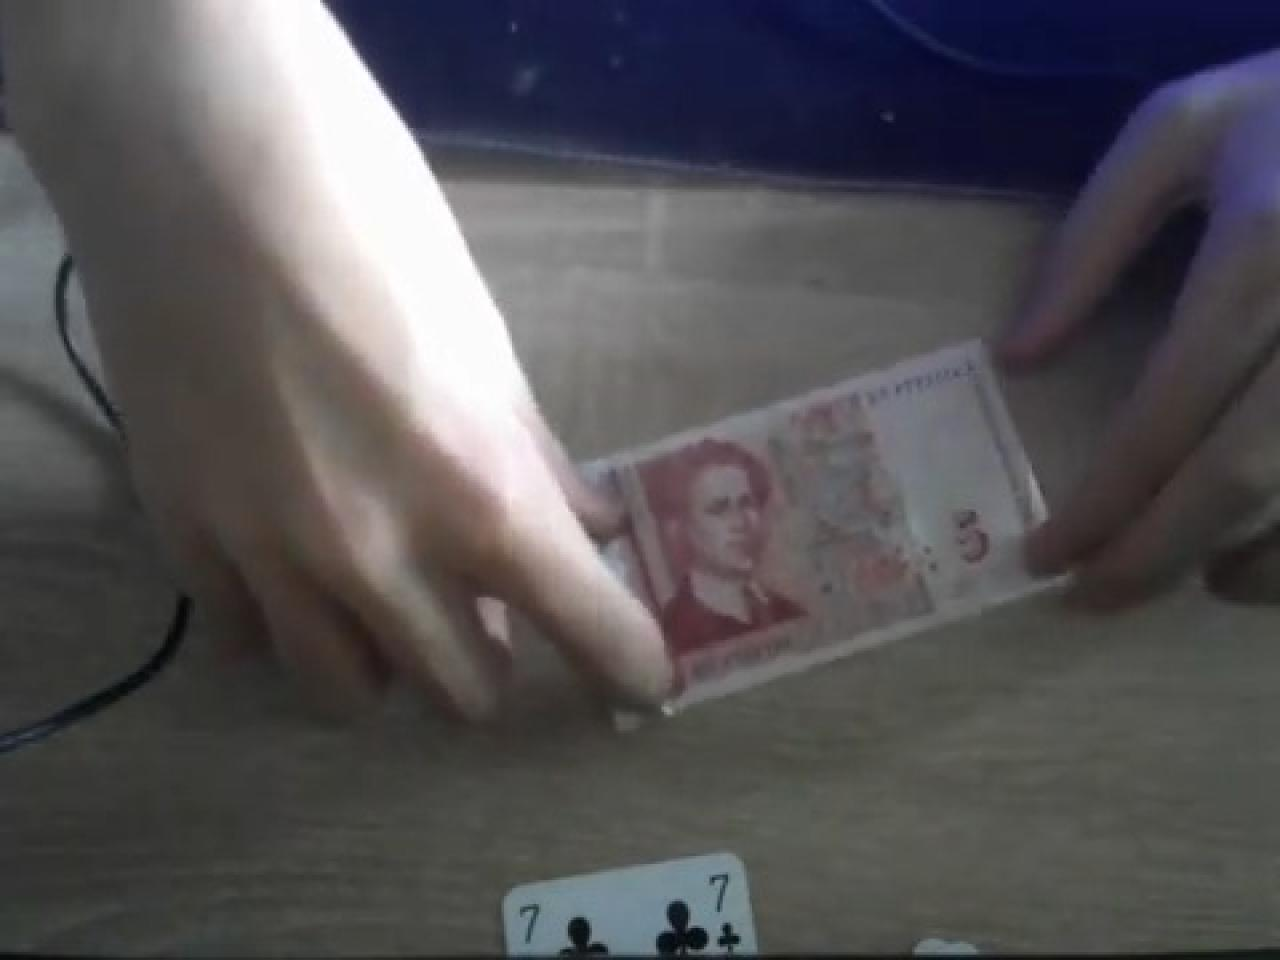5leva: (579, 341, 1069, 720)
